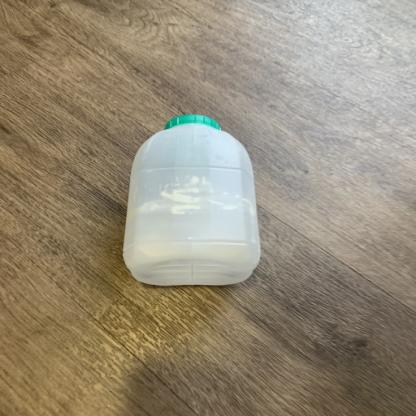trash: (123, 114, 269, 290)
